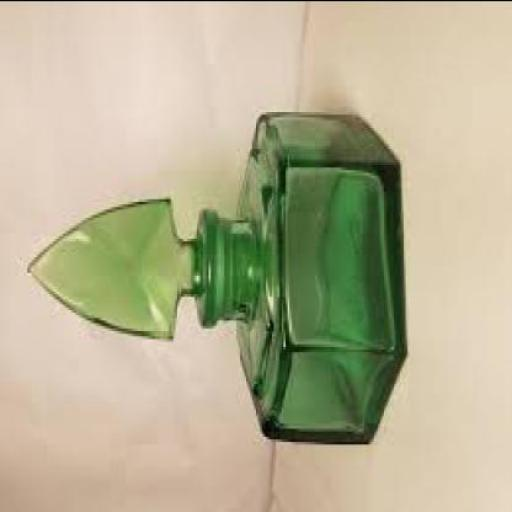glass: (24, 108, 408, 443)
